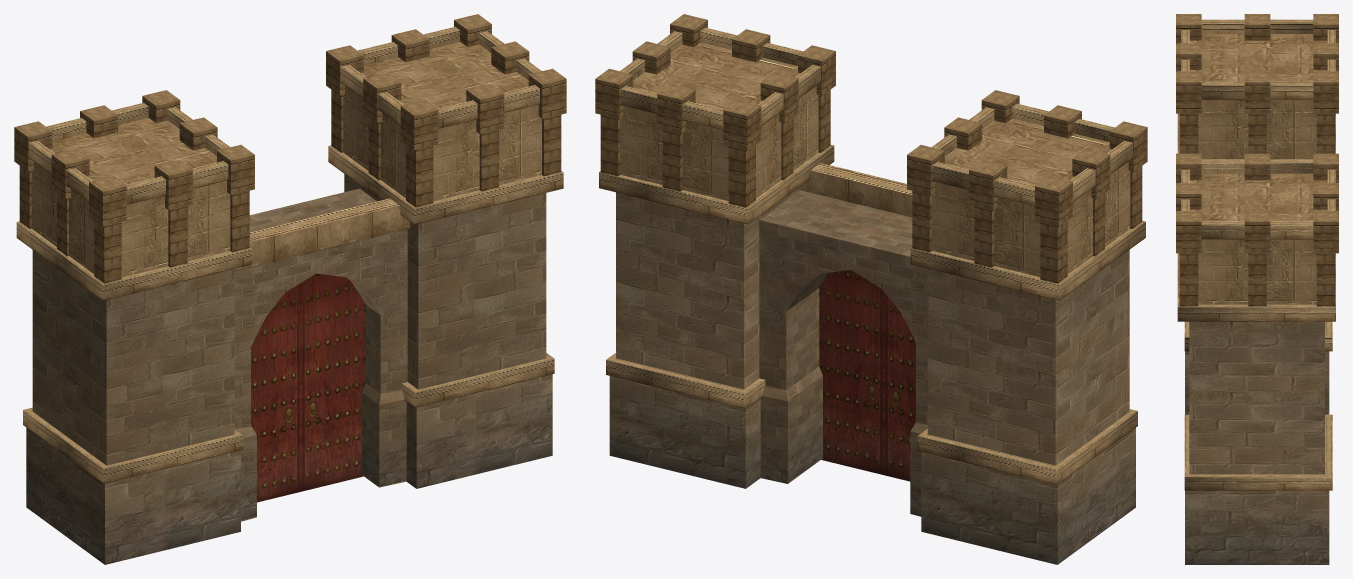
File: environment_Building_fenghuotai_j.FBX
3 views of the same model, side by side, from view 1: azimuth 30°, elevation 25°; view 2: azimuth 150°, elevation 25°; view 3: azimuth 270°, elevation 25° (orthographic). The views are drawn at different scales.
Visible parts, largest first — view 1: environment_Building_fenghuotai_j03, environment_Building_fenghuotai_j01, environment_Building_fenghuotai_j02; view 2: environment_Building_fenghuotai_j03, environment_Building_fenghuotai_j01, environment_Building_fenghuotai_j02; view 3: environment_Building_fenghuotai_j01, environment_Building_fenghuotai_j03.
Boxes of the visible parts, box(x1,y1,x2,y2) form: environment_Building_fenghuotai_j03: box(26, 174, 552, 564); environment_Building_fenghuotai_j01: box(14, 14, 566, 483); environment_Building_fenghuotai_j02: box(251, 273, 365, 502); environment_Building_fenghuotai_j03: box(609, 187, 1135, 564); environment_Building_fenghuotai_j01: box(595, 14, 1147, 484); environment_Building_fenghuotai_j02: box(819, 270, 915, 481); environment_Building_fenghuotai_j01: box(1176, 14, 1338, 490); environment_Building_fenghuotai_j03: box(1185, 321, 1329, 564).
Bounding box in the file's own units: 1390 × 460 × 1089.
